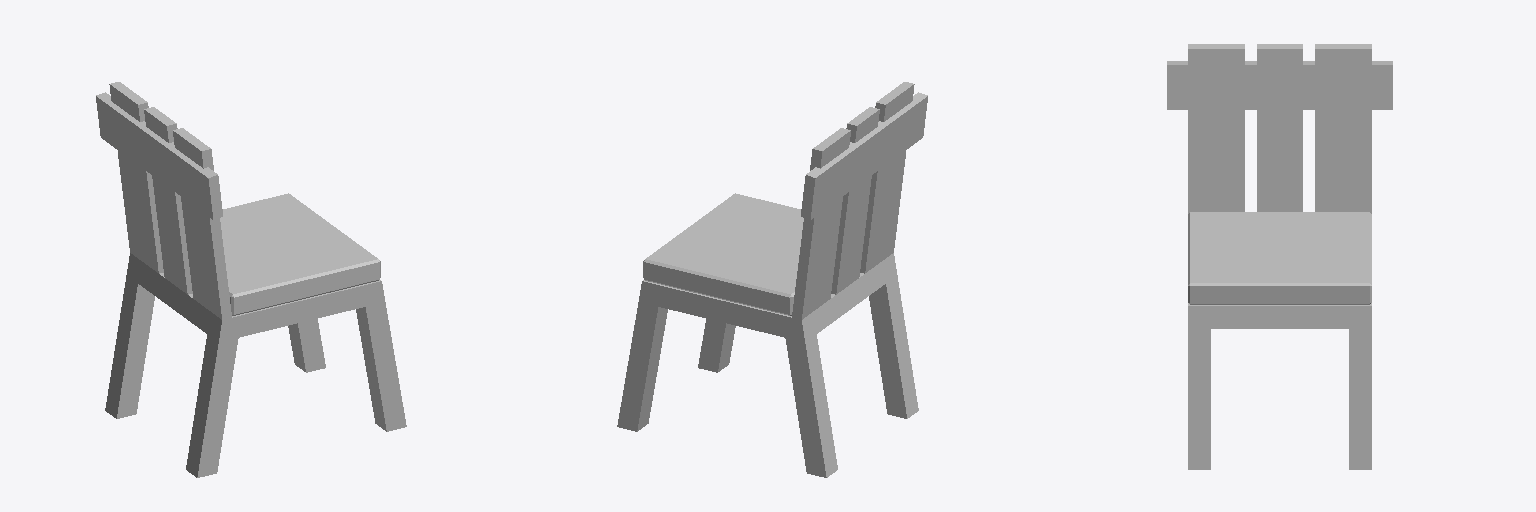
File: chair-2.obj
3 renders of one model, left to right at view 1: azimuth 30°, elevation 25°; view 2: azimuth 150°, elevation 25°; view 3: azimuth 270°, elevation 25°, orthographic.
Visible parts, largest first — view 1: chair_Cube.002; view 2: chair_Cube.002; view 3: chair_Cube.002.
Boxes of the visible parts, <box> form: chair_Cube.002: <box>96,82,406,477</box>; chair_Cube.002: <box>617,82,927,477</box>; chair_Cube.002: <box>1167,44,1392,469</box>.
Size of the model in its own units: 0.5047 by 0.75 by 0.4704.